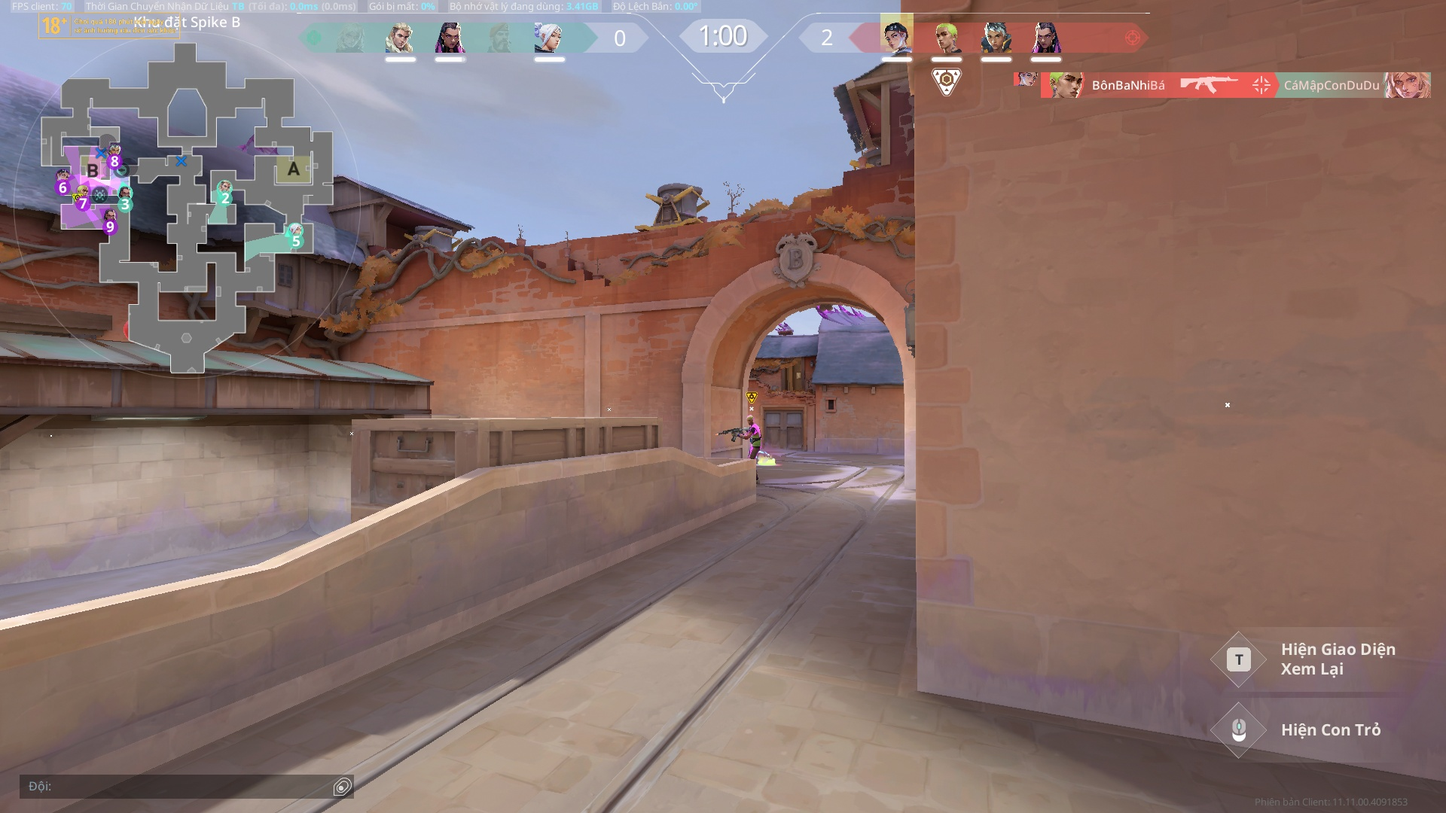body: (746, 423, 765, 445)
head: (745, 414, 756, 425)
